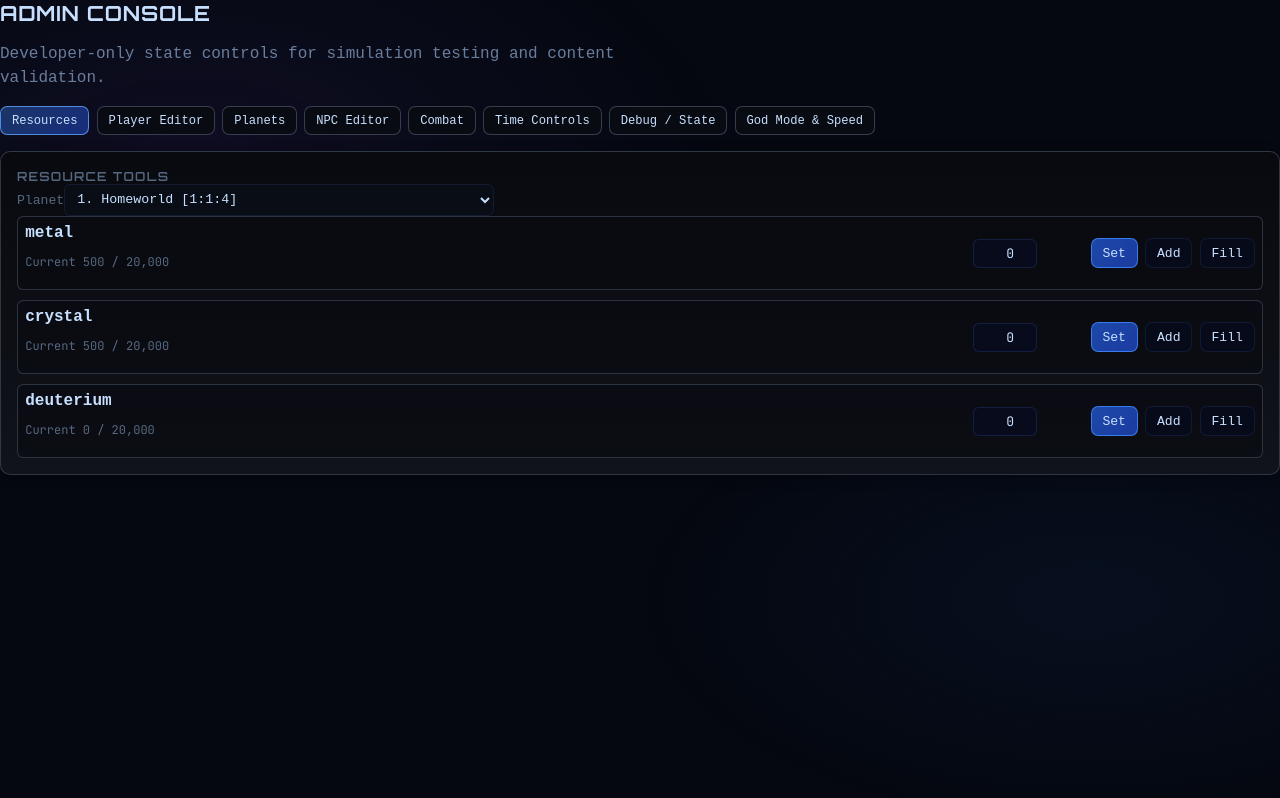
Test: AdminPanel › keeps planet size draft local until Apply is clicked
Click the tab "Player Editor": (156, 121) x1=97 y1=106 x2=215 y2=135
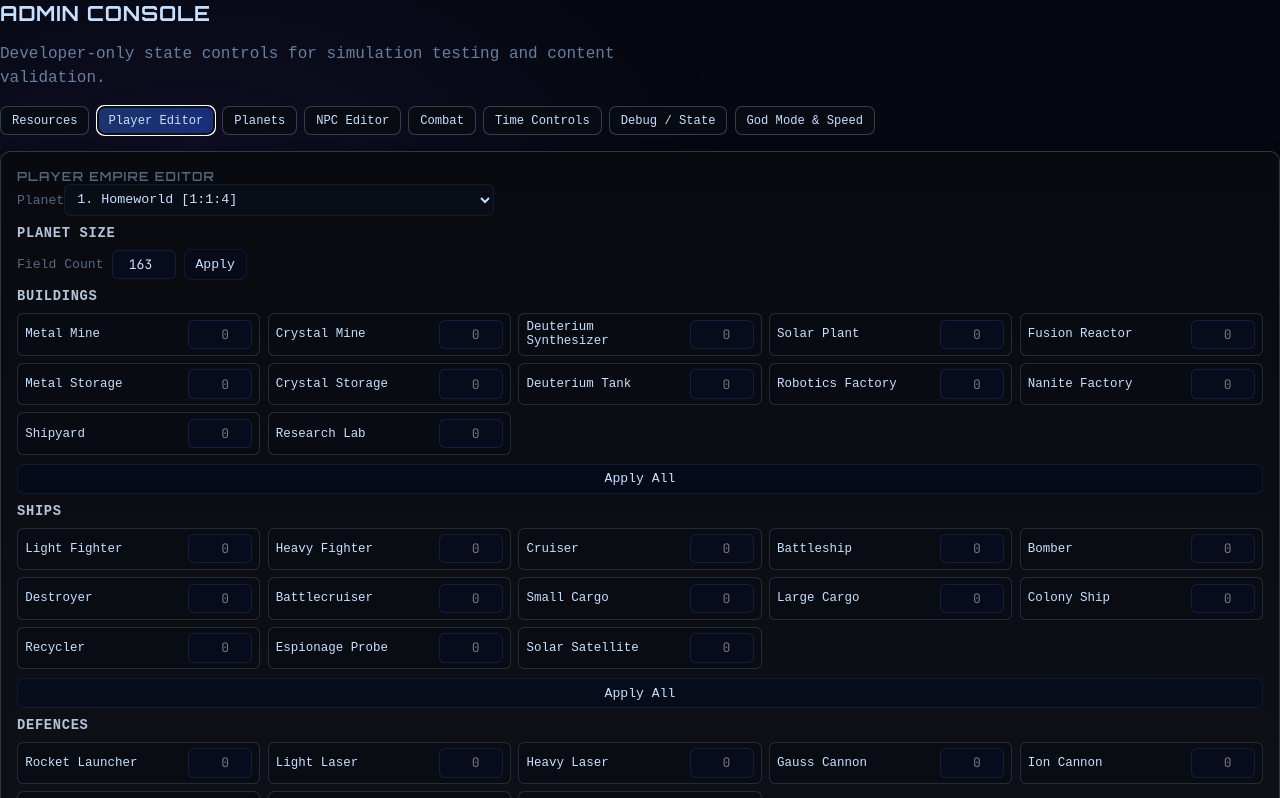
Replace the text in the number field labelled "Field Count" with "200": (144, 265) x1=112 y1=250 x2=176 y2=279
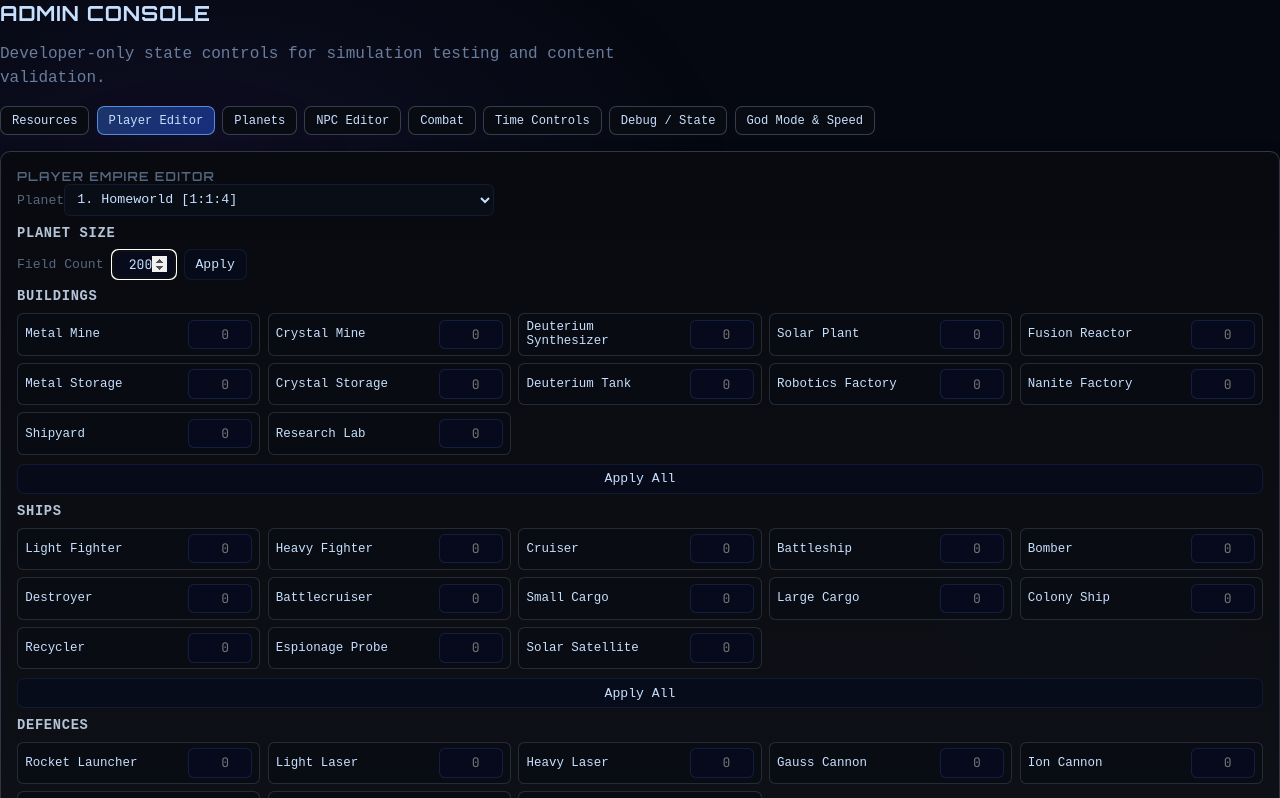
Click the tab "Resources": (45, 121) x1=0 y1=106 x2=89 y2=135
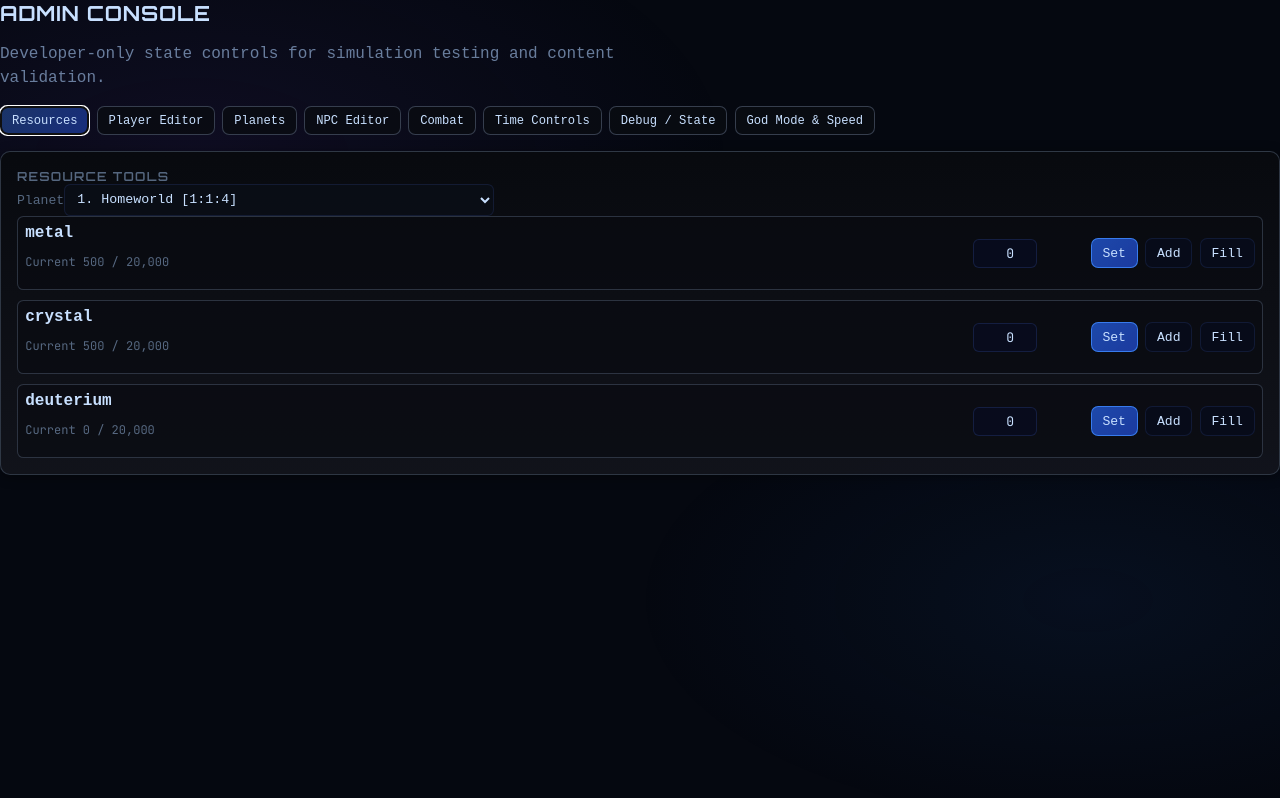
Expected: the text "metal" is shown, x1=25 y1=224 x2=73 y2=242
Click the button "Set" in the row of "metal": (1114, 253) x1=1090 y1=238 x2=1138 y2=268
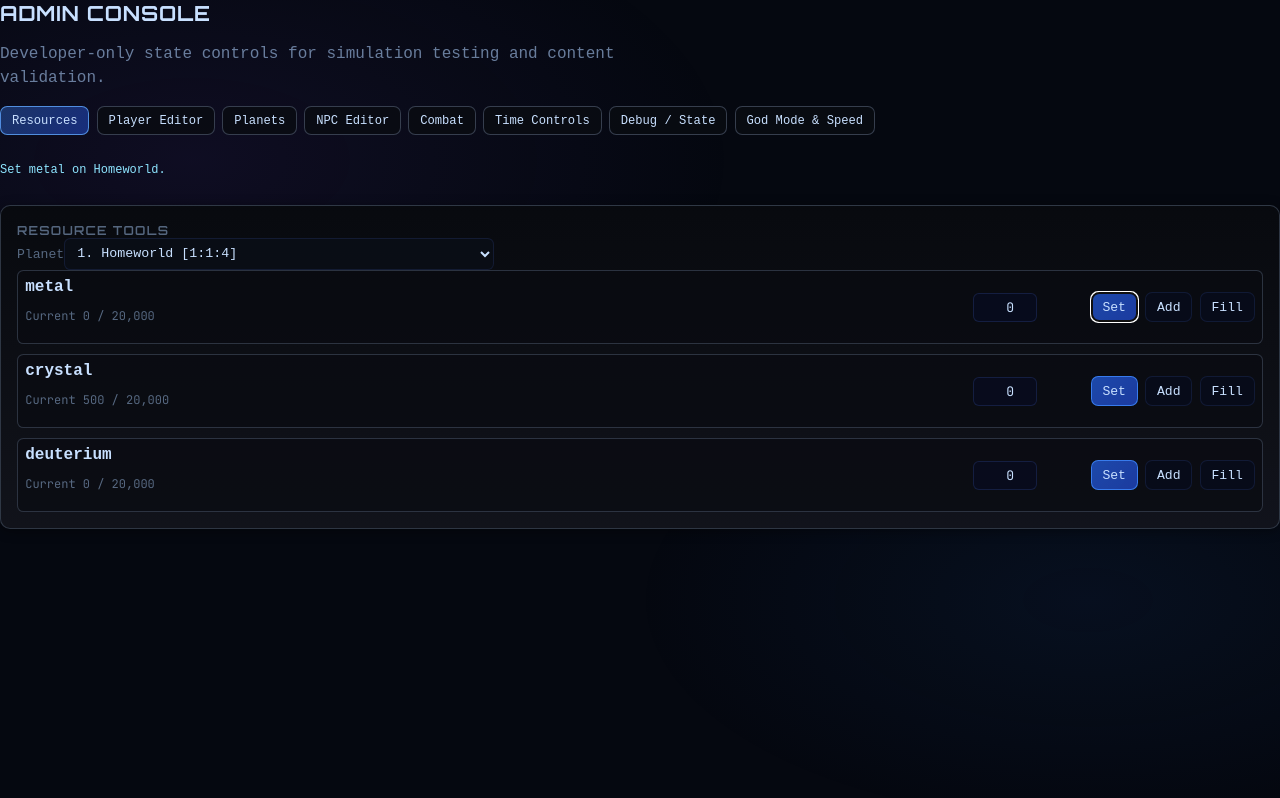
Click the tab "Player Editor": (156, 121) x1=97 y1=106 x2=215 y2=135
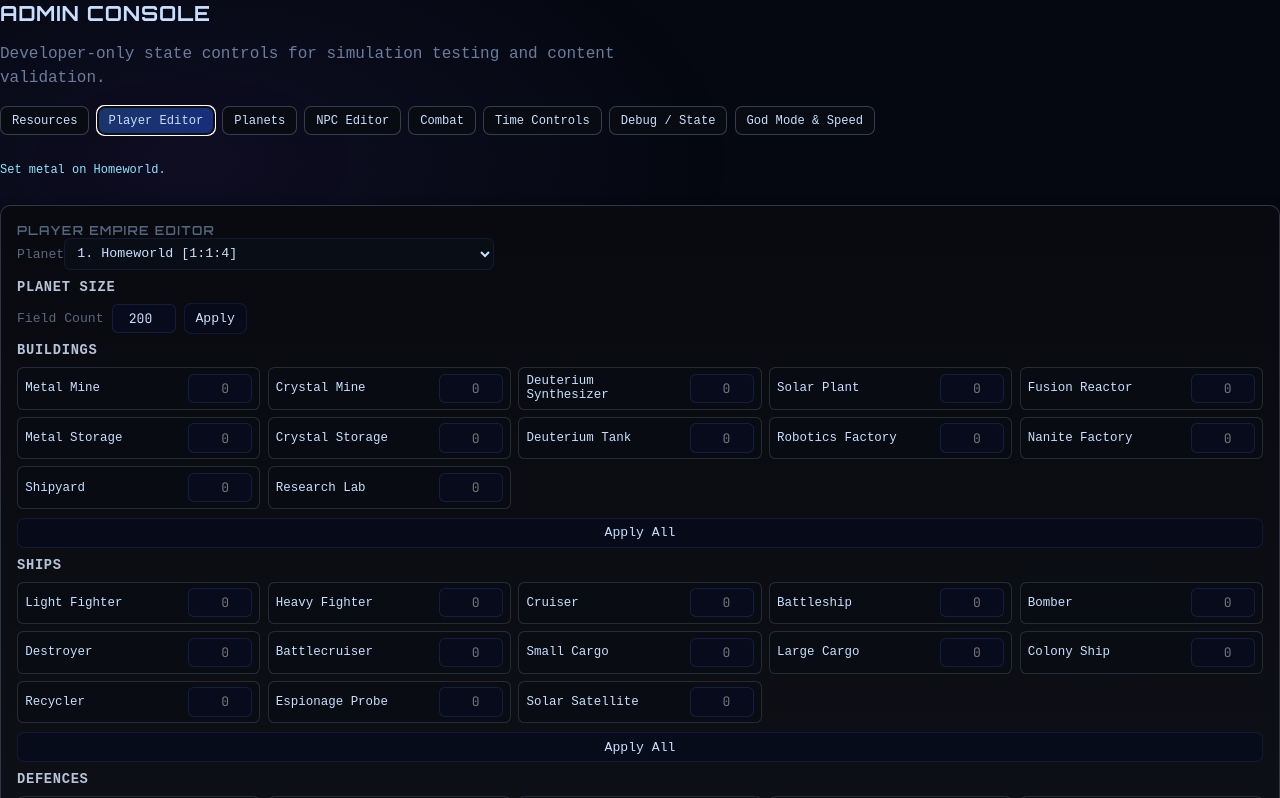
Expected: the number field labelled "Field Count" holds "200", x1=112 y1=304 x2=176 y2=333
